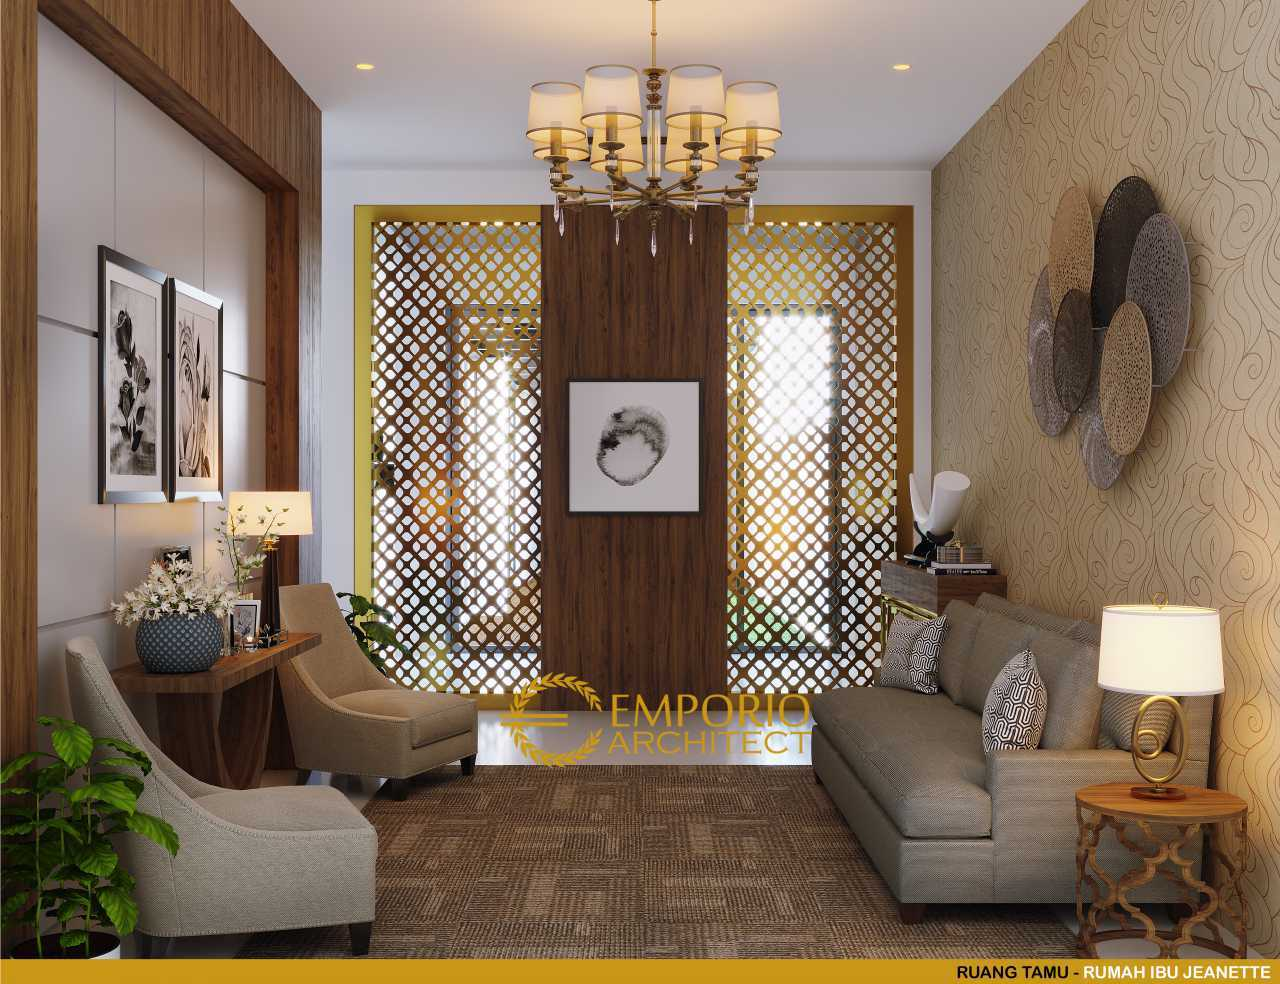bantal: (985, 648, 1048, 761), (876, 606, 942, 687)
kursi: (65, 633, 375, 956), (275, 583, 483, 778)
lampu: (1095, 599, 1229, 805), (230, 489, 313, 579)
lukisan: (96, 245, 230, 509), (562, 376, 706, 519)
sova: (816, 591, 1218, 915)
tanaman: (1, 714, 145, 959), (118, 556, 232, 675), (219, 506, 278, 606), (339, 590, 408, 647)
